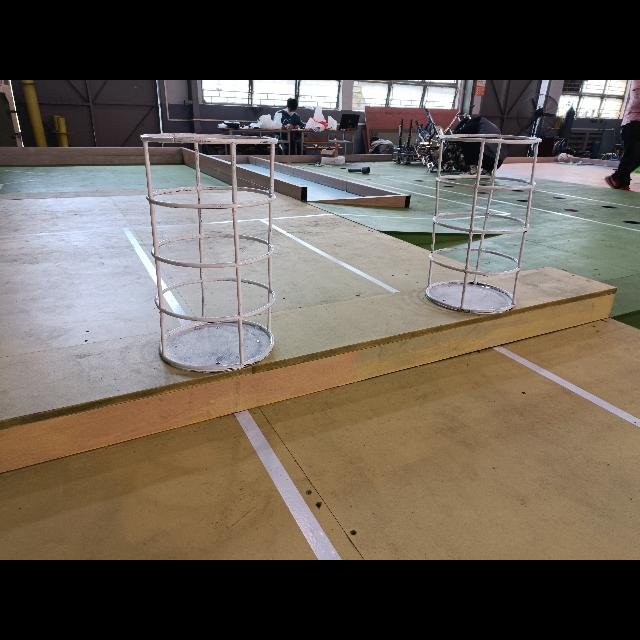S: (144, 132, 274, 373), (425, 133, 536, 316)
